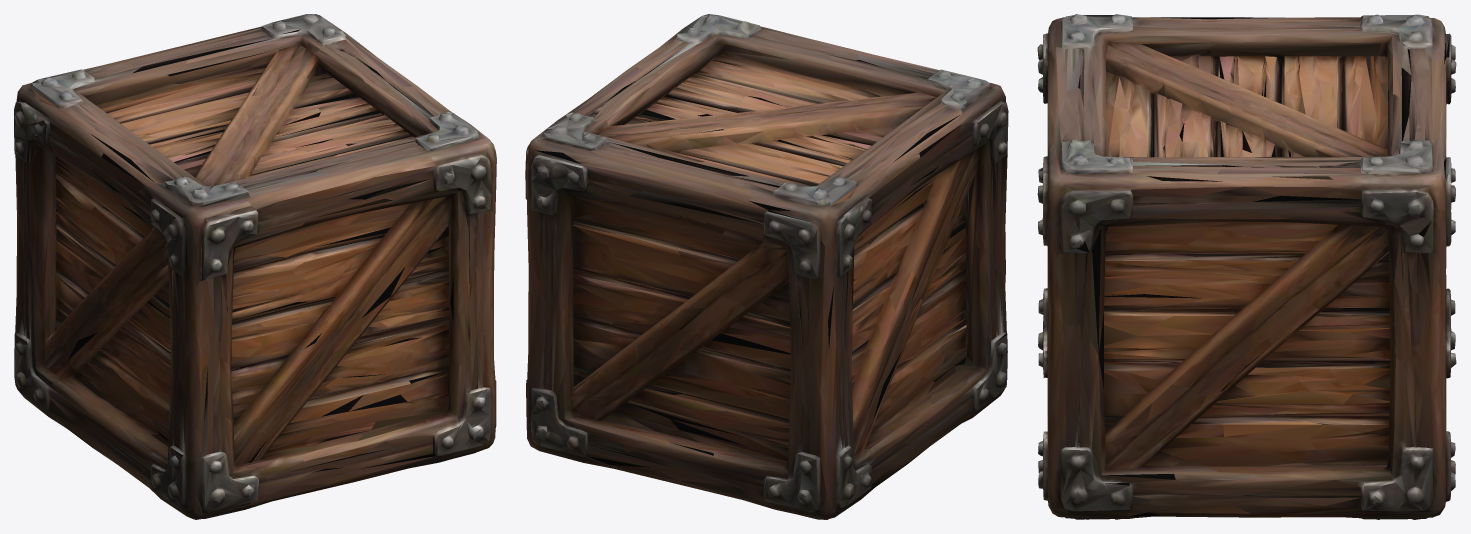
The model's file is kup_ahsap.glb.
3 views of the same model, side by side, from view 1: azimuth 30°, elevation 25°; view 2: azimuth 150°, elevation 25°; view 3: azimuth 270°, elevation 25° (orthographic). The views are drawn at different scales.
Visible parts, largest first — view 1: tripo_node_561f520f-647f-4719-afdc-263abc175416; view 2: tripo_node_561f520f-647f-4719-afdc-263abc175416; view 3: tripo_node_561f520f-647f-4719-afdc-263abc175416.
Boxes of the visible parts, x1,y1,x2,y2 form: tripo_node_561f520f-647f-4719-afdc-263abc175416: [14, 14, 496, 519]; tripo_node_561f520f-647f-4719-afdc-263abc175416: [525, 14, 1008, 519]; tripo_node_561f520f-647f-4719-afdc-263abc175416: [1037, 14, 1456, 519].
Bounding box in the file's own units: 0.9654 × 0.9311 × 0.9806.
Materials: 1 (1 with a texture image).
